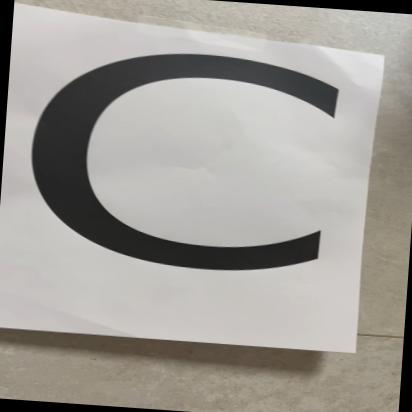seat: (0, 0, 384, 356)
